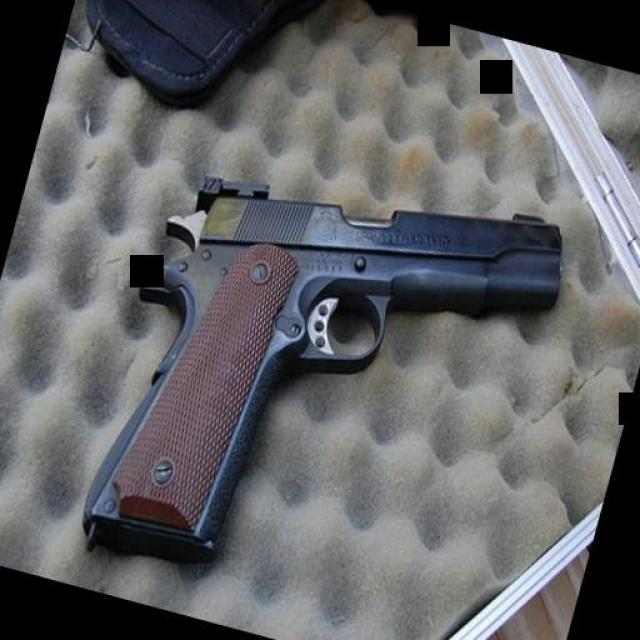gun: (63, 110, 575, 640)
